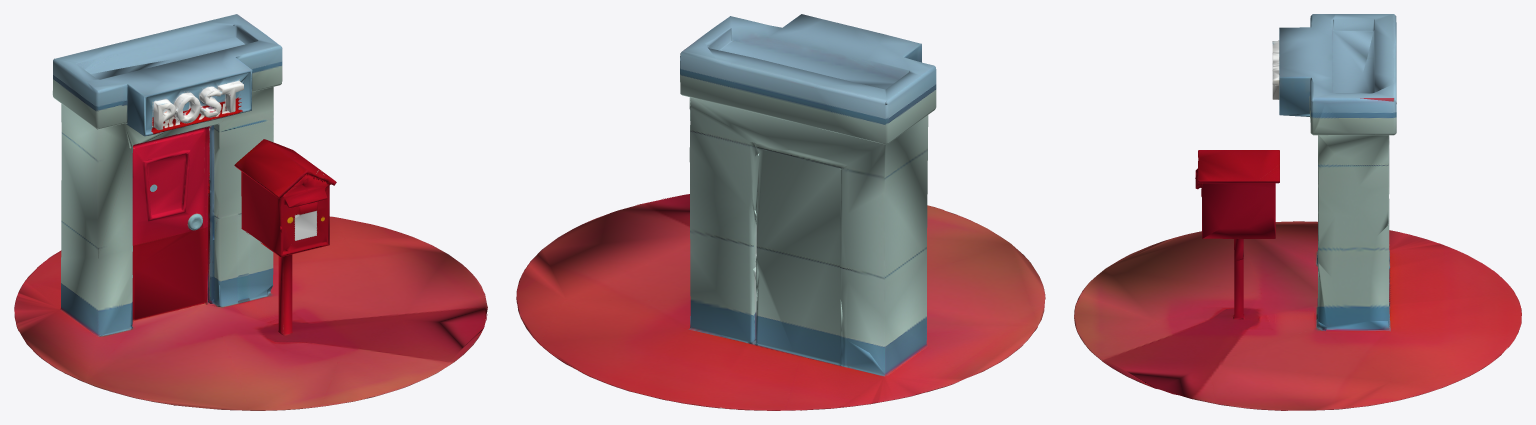
The model's file is post_office.glb.
3 renders of one model, left to right at view 1: azimuth 30°, elevation 25°; view 2: azimuth 150°, elevation 25°; view 3: azimuth 270°, elevation 25°, orthographic. The views are drawn at different scales.
Size of the model in its own units: 1.91 by 1.11 by 1.91.
Materials: 1 (1 with a texture image).
